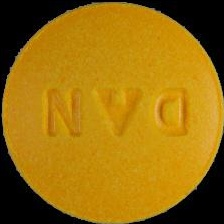0591-5661: (0, 0, 224, 224)
